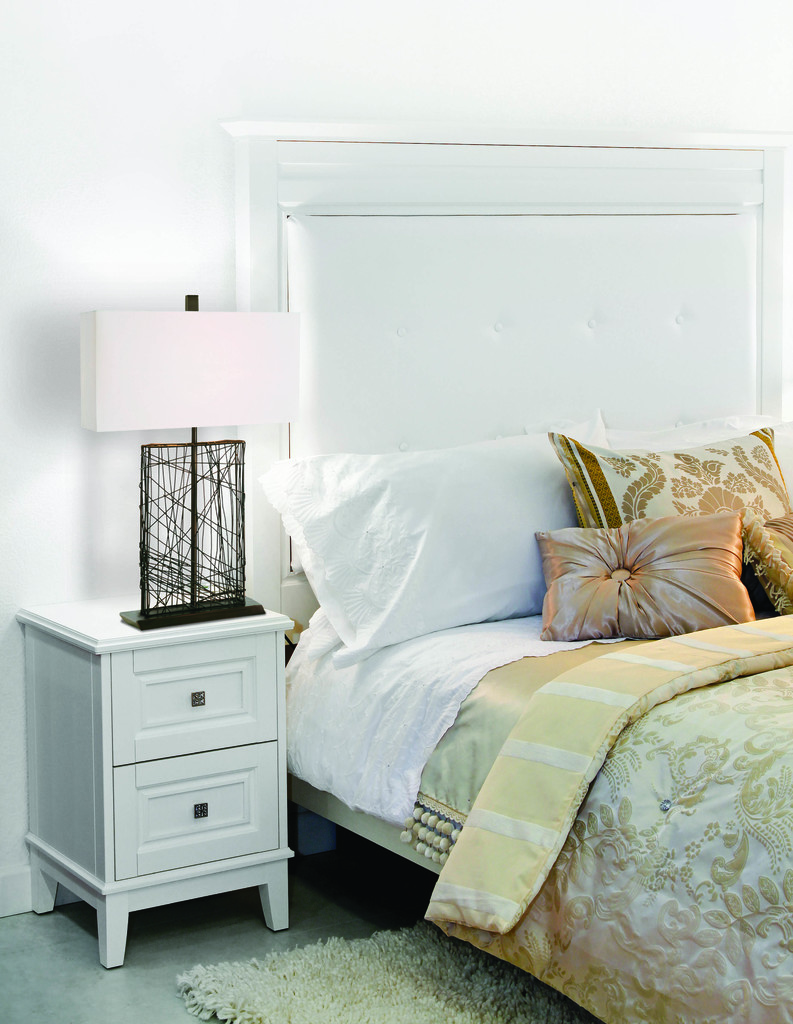cabinet door: (113, 751, 274, 858), (105, 656, 276, 741)
handle: (195, 784, 210, 839), (189, 678, 209, 717)
